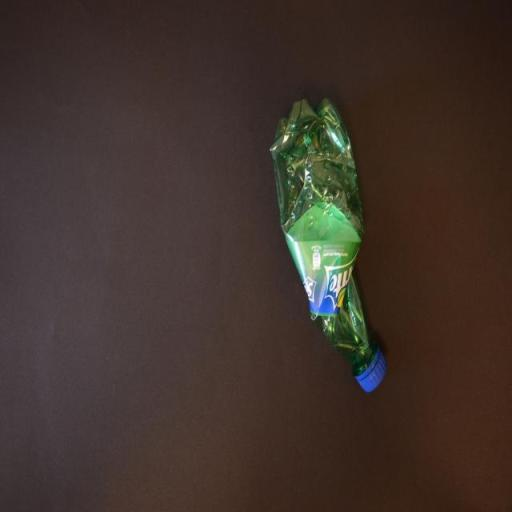plastic: (269, 98, 389, 396)
